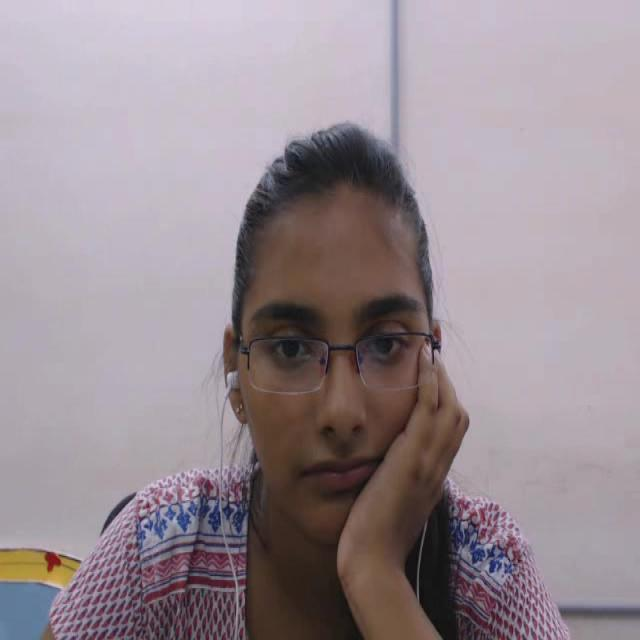Bored: (210, 114, 482, 596)
